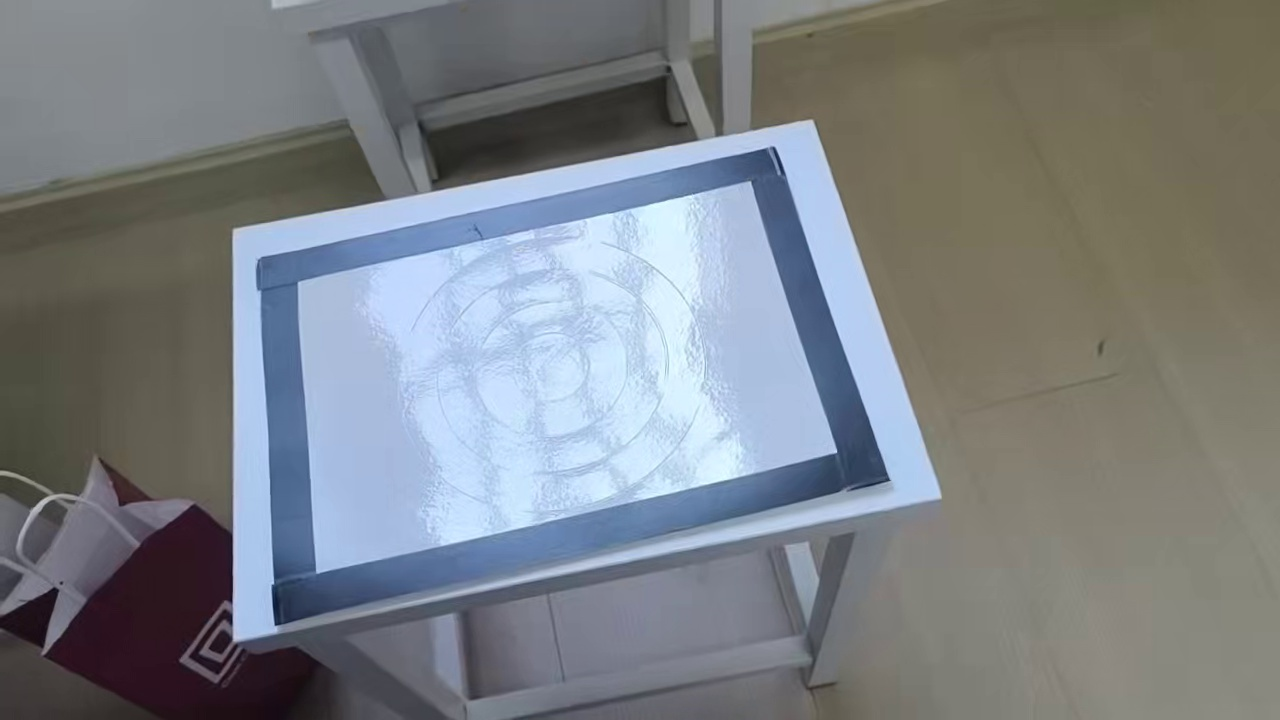board: (256, 149, 889, 623)
